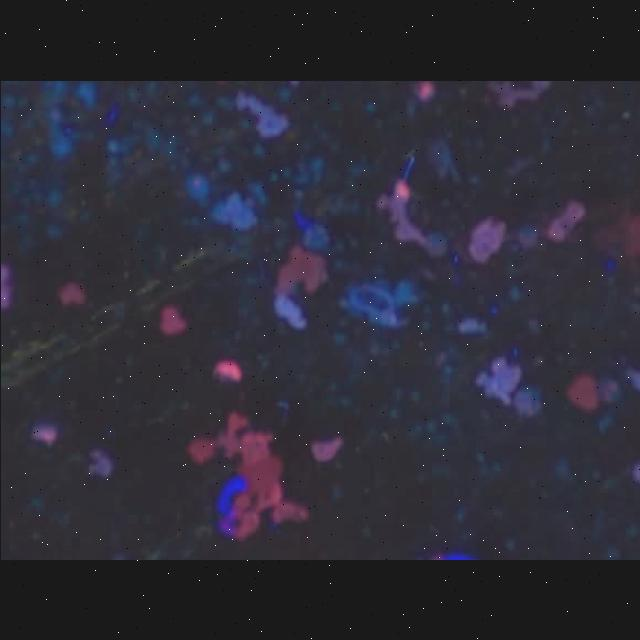Fragment: (187, 413, 308, 541)
